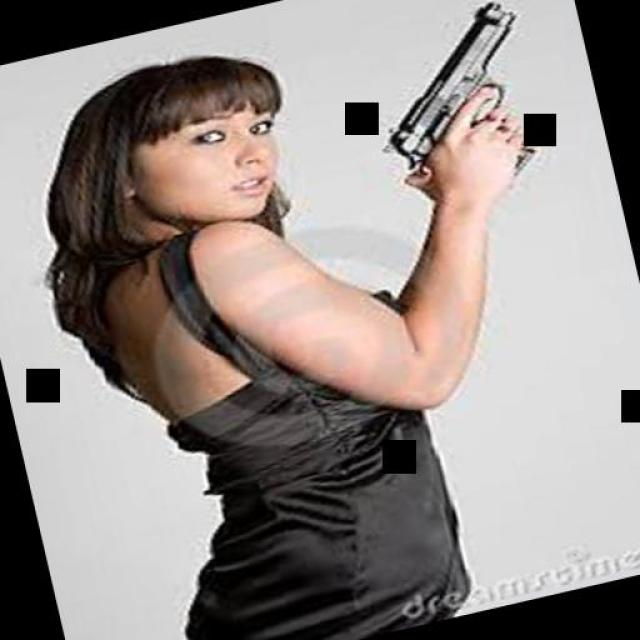gun: (331, 0, 558, 202)
